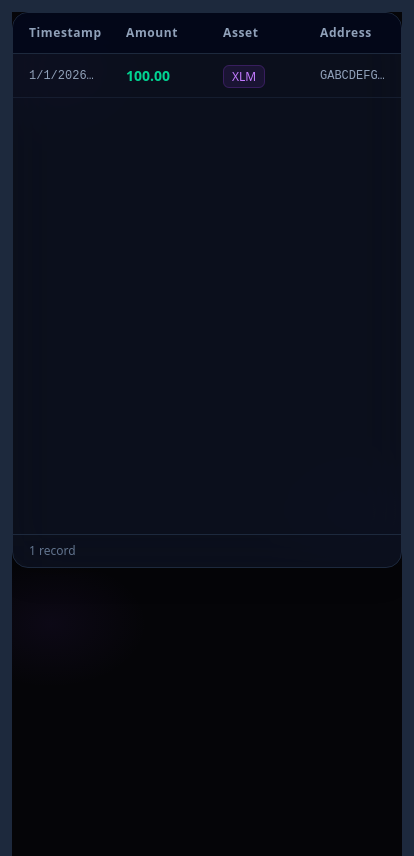
VirtualPaymentGrid › resets another column to ascending when switching sort columns
Step 1. Click the button "Amount" → {"x": 158, "y": 33}, box [110,13,207,53]
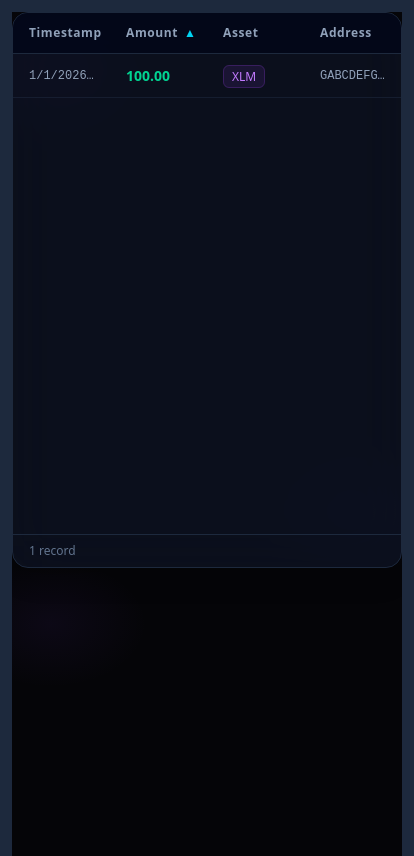
Step 2. Click the button "Amount ▲" → {"x": 158, "y": 33}, box [110,13,207,53]
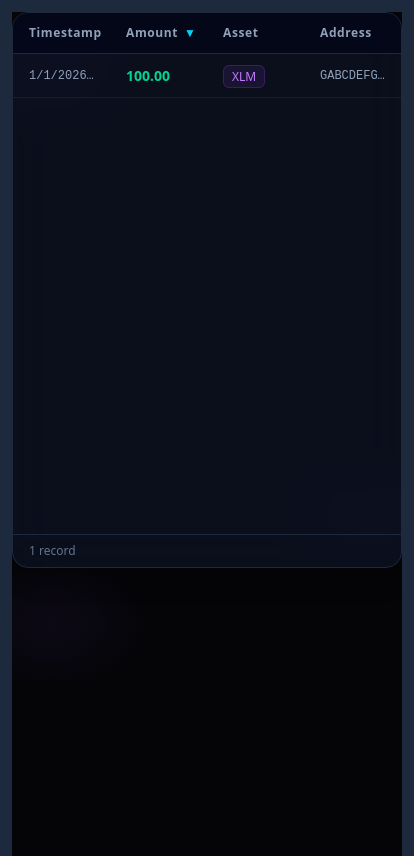
expect the button "Amount ▼" has attribute aria-sort="descending": met, box [110,13,207,53]
Step 3. Click the button "Asset" → {"x": 256, "y": 33}, box [207,13,304,53]
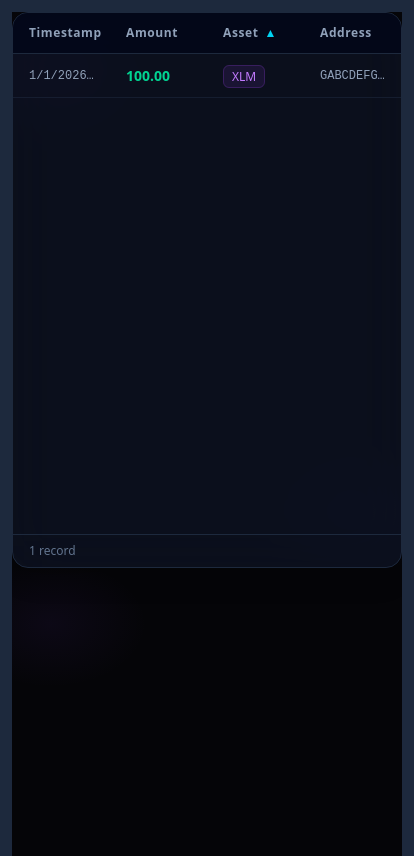
expect the button "Asset ▲" has attribute aria-sort="ascending": met, box [207,13,304,53]
expect the button "Amount" has attribute aria-sort="none": met, box [110,13,207,53]
